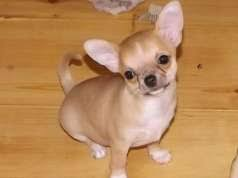chihuahua: (48, 3, 193, 177)
